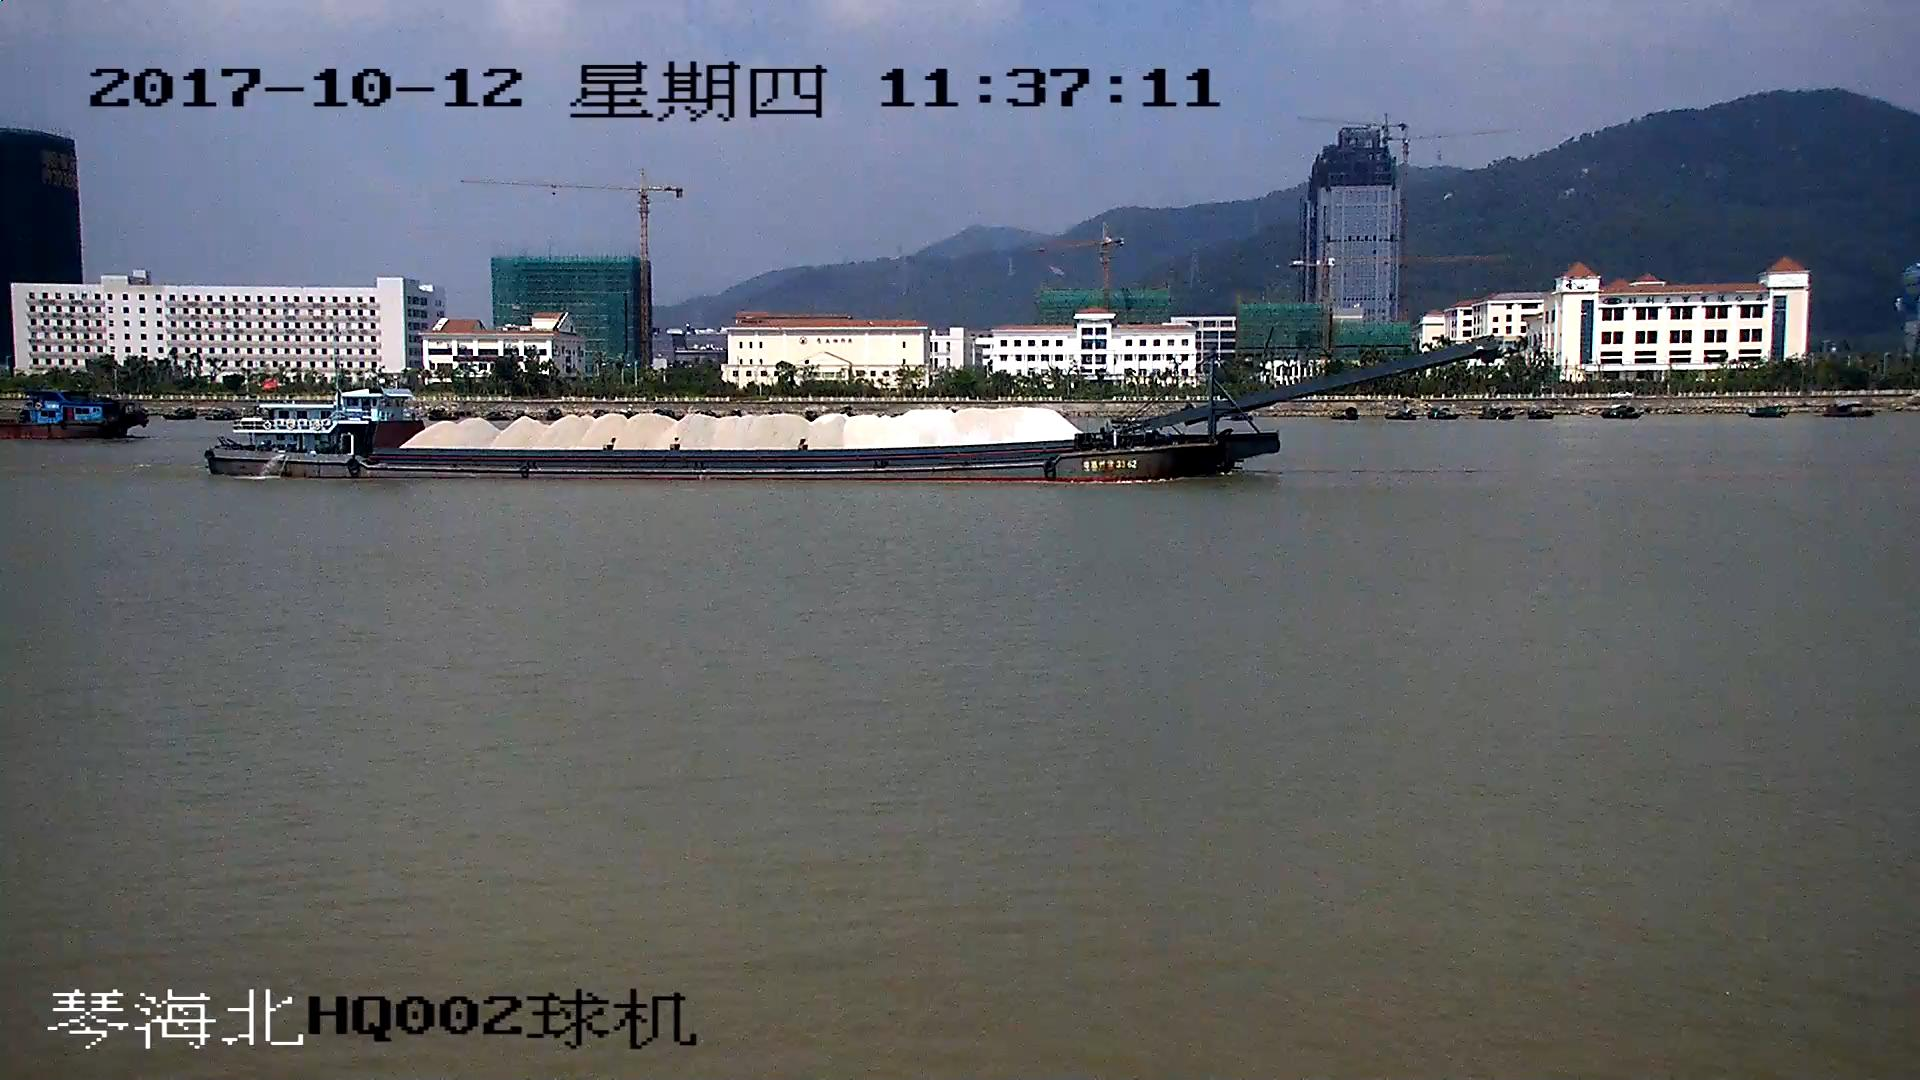ore carrier: (205, 336, 1486, 479)
